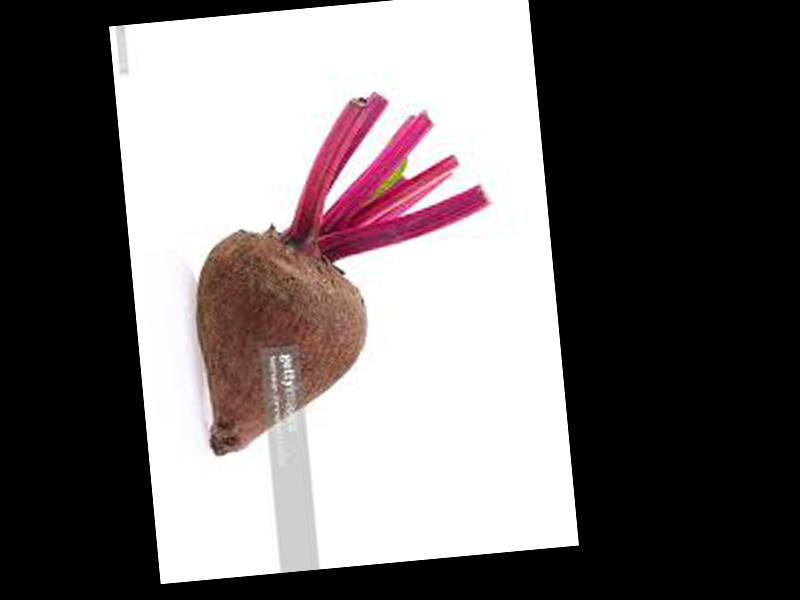Beet: (178, 82, 509, 456)
